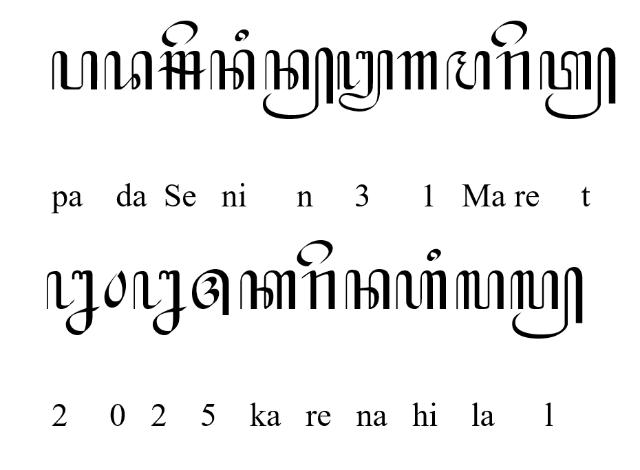-l: (510, 266, 584, 340)
-n: (262, 46, 334, 120)
-t: (539, 46, 617, 120)
0: (104, 270, 126, 309)
5: (190, 268, 230, 316)
S: (158, 49, 206, 90)
d: (104, 48, 154, 90)
e: (490, 19, 528, 48), (161, 20, 199, 48), (296, 240, 332, 267)
g: (398, 50, 438, 90)
h: (395, 270, 447, 310)
i: (234, 28, 250, 42), (426, 248, 442, 262)
k: (239, 270, 297, 310)
l: (456, 270, 504, 310)
m: (446, 50, 492, 90)
n: (209, 48, 255, 90), (345, 270, 391, 310)
ngna: (46, 269, 100, 335), (133, 269, 187, 335)
ngya: (337, 50, 393, 112)
p: (51, 50, 99, 92)
r: (496, 49, 530, 91), (302, 270, 336, 310)
